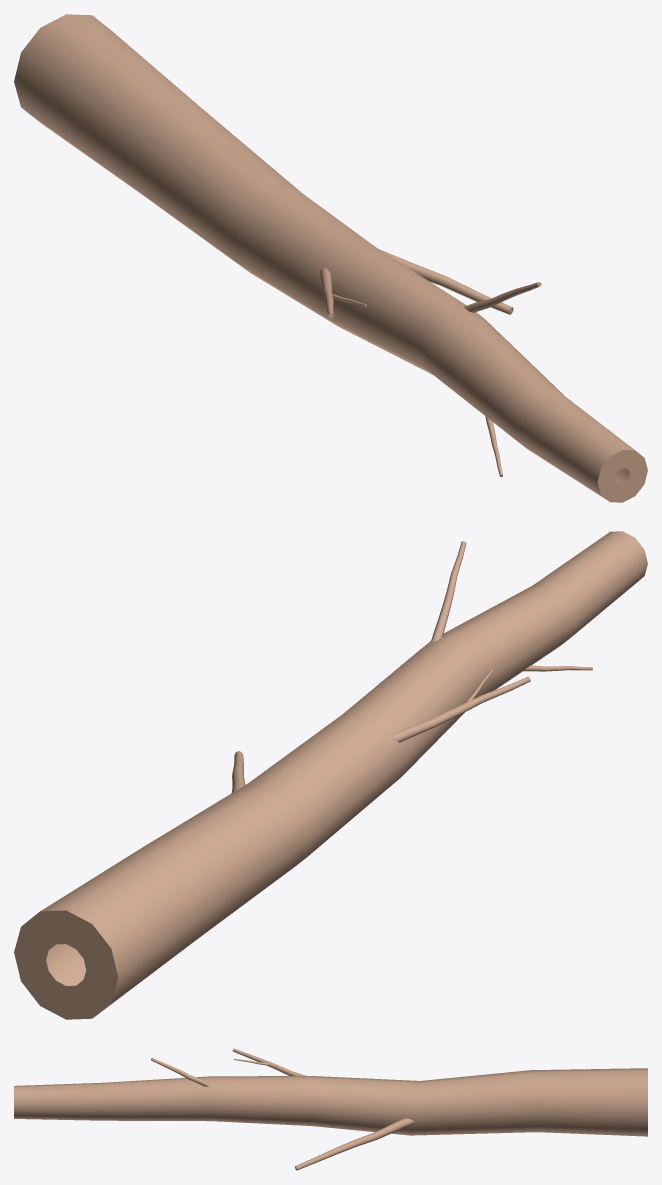
The model's file is WoodenNose.fbx.
The picture shows the model from 3 angles, top to bottom: view 1: azimuth 30°, elevation 25°; view 2: azimuth 150°, elevation 25°; view 3: azimuth 270°, elevation 25°; orthographic projection. The views are drawn at different scales.
Visible parts, largest first — view 1: pCylinder1, pCylinder2; view 2: pCylinder1, pCylinder5, pCylinder4; view 3: pCylinder1, pCylinder2, pCylinder5, pCylinder4.
Boxes of the visible parts, left/top/right/bottom form: pCylinder1: left=14, top=14, right=647, bottom=502; pCylinder2: left=380, top=249, right=513, bottom=314; pCylinder1: left=14, top=531, right=647, bottom=1019; pCylinder5: left=393, top=676, right=530, bottom=742; pCylinder4: left=431, top=541, right=466, bottom=641; pCylinder1: left=14, top=1068, right=647, bottom=1136; pCylinder2: left=295, top=1118, right=415, bottom=1170; pCylinder5: left=232, top=1048, right=305, bottom=1075; pCylinder4: left=151, top=1058, right=211, bottom=1086.
Size of the model in its own units: 4.61 by 2.76 by 18.46.
